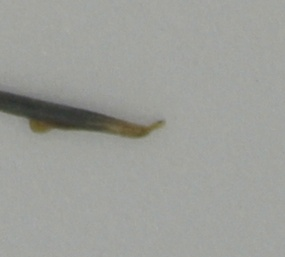เมล็ดงอกแตก: (1, 88, 167, 142)
